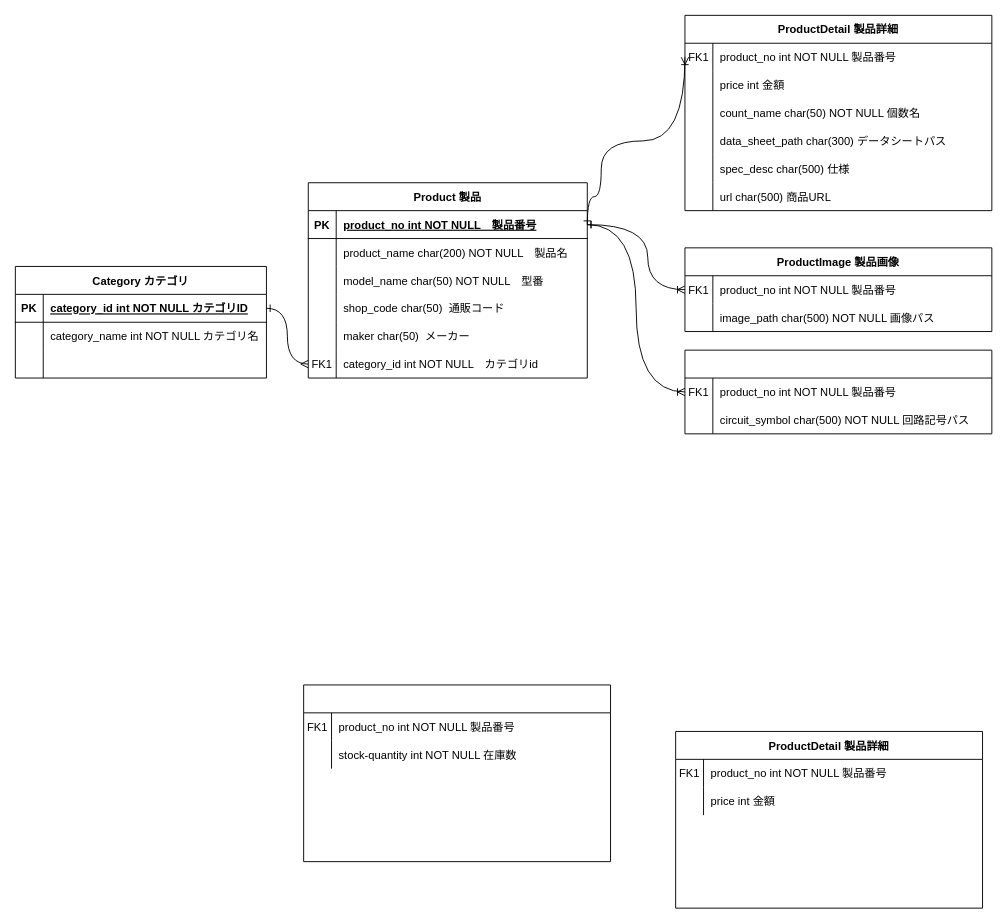
Some shapes in this 1007 by 923 pixel diagram are drawn without their labels. Here are the shapes that lost their labels. From the top down, the box of each, then its label:
(684, 349, 992, 434): CircuitSymbol 回路記号
(303, 684, 611, 862): Inventory 在庫管理
